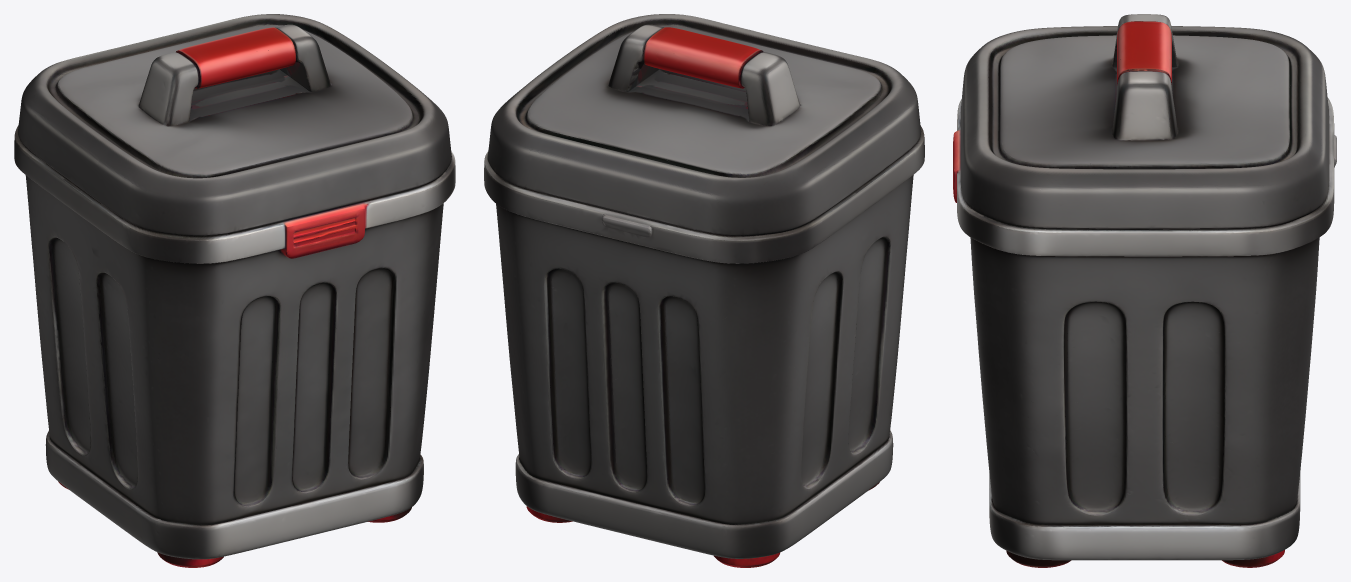
The model's file is base_basic_pbr.glb.
The picture shows the model from 3 angles, left to right: view 1: azimuth 30°, elevation 25°; view 2: azimuth 150°, elevation 25°; view 3: azimuth 270°, elevation 25°; orthographic projection. The views are drawn at different scales.
Visible parts, largest first — view 1: model; view 2: model; view 3: model.
Part boxes in pixels (box(x1,y1,x2,y2)): model: box(14, 14, 455, 567); model: box(484, 14, 924, 567); model: box(953, 14, 1336, 567).
Bounding box in the file's own units: 1.43 × 1.9 × 1.42.
1 material, 1 textured.
